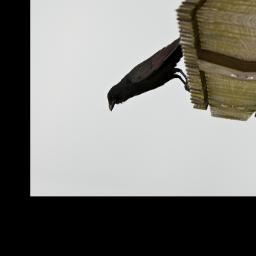Crow: (102, 29, 207, 121)
